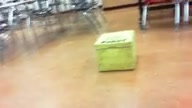cube: (94, 30, 134, 72)
